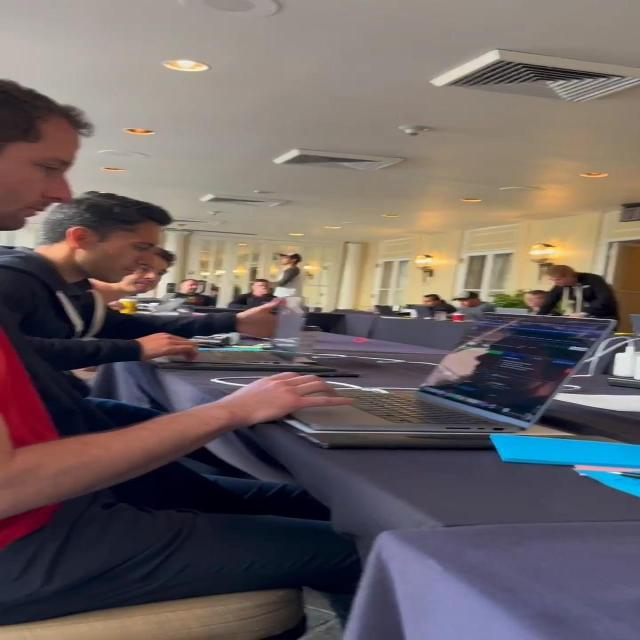NO-Mask: (0, 114, 79, 231), (79, 223, 163, 283), (110, 254, 172, 294), (546, 272, 573, 286), (524, 293, 544, 308), (182, 280, 200, 292), (457, 298, 476, 308), (253, 282, 272, 292), (422, 296, 438, 307), (278, 255, 295, 265)
